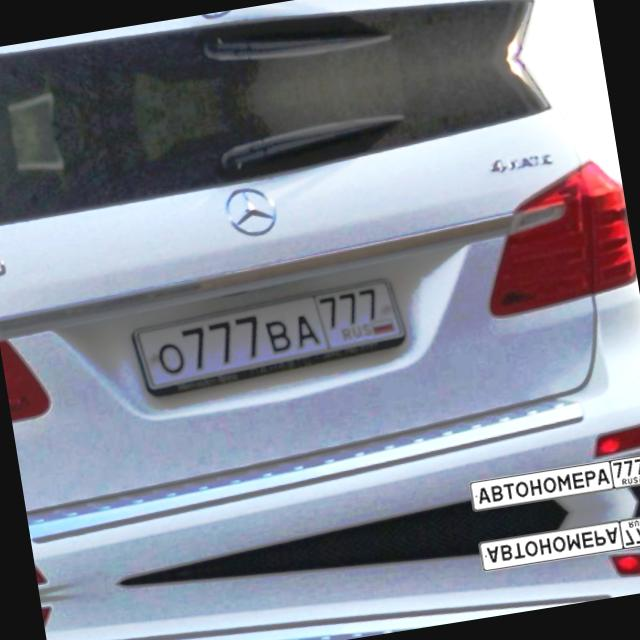citizen: (124, 272, 412, 402)
